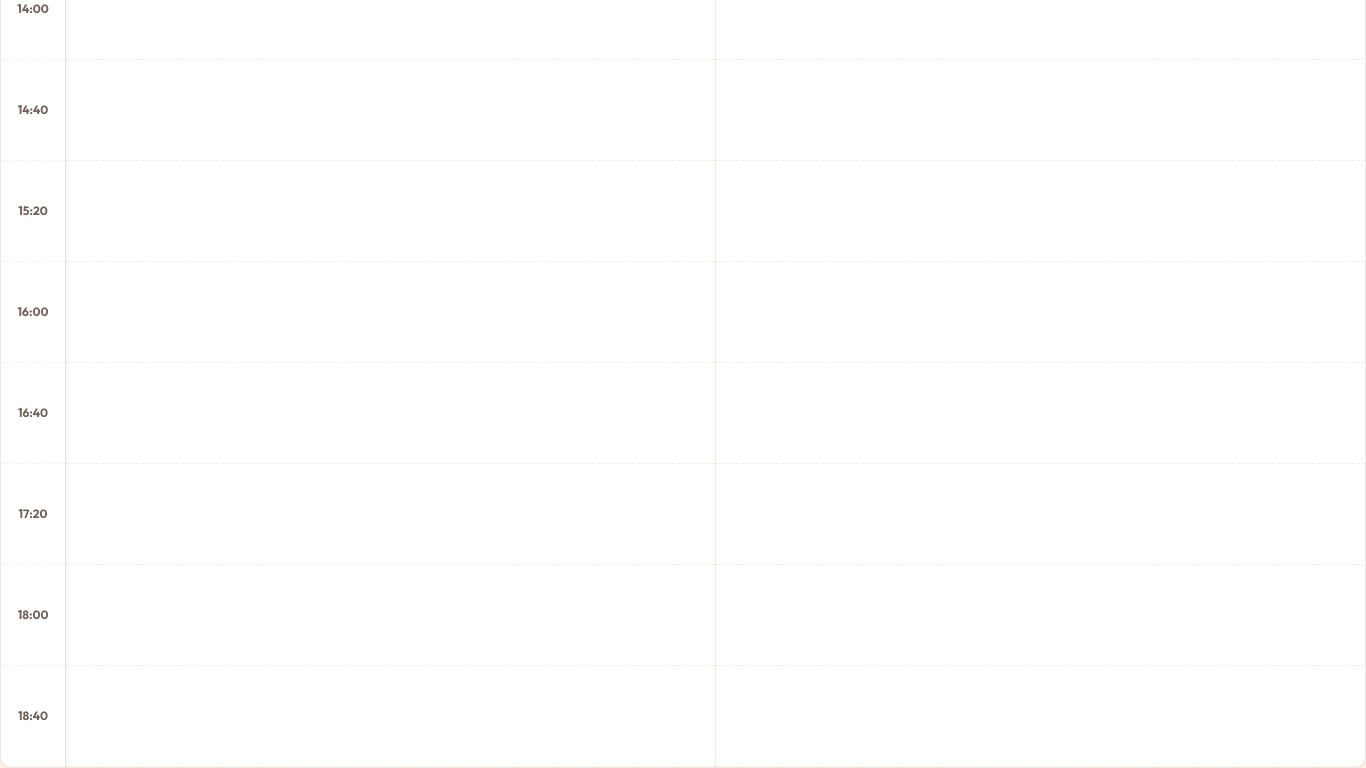
Test case: Página de Agenda do Gerente (Grade Temporal) › não oferece no agendamento normal um slot que não comporta a duração até o fechamento
The image size is (1366, 768).
(page scrolled)
Step 1. Click the element with test id "slot-cell-prof-1-18:40" → click(390, 716), box [66,666,715,767]
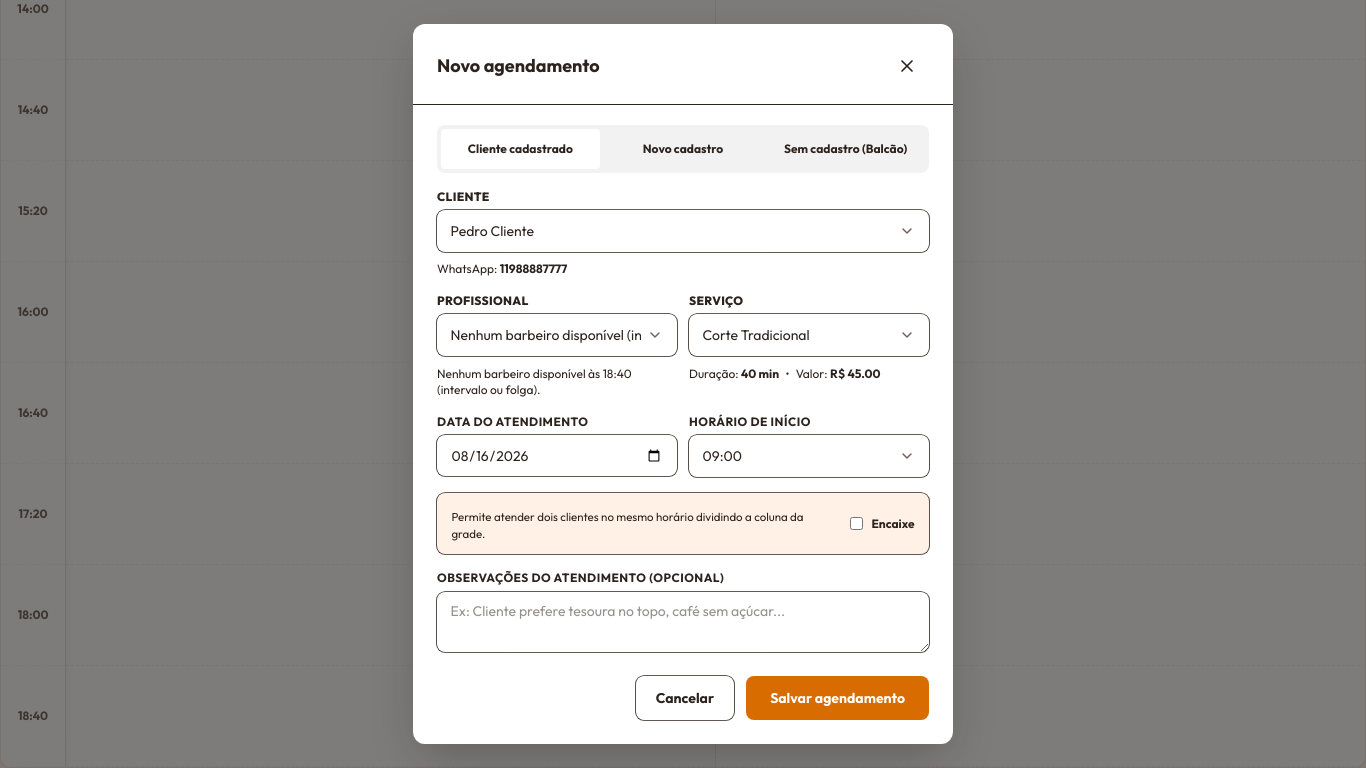
Now the heading "Novo agendamento" is shown, box [437,52,600,80]
